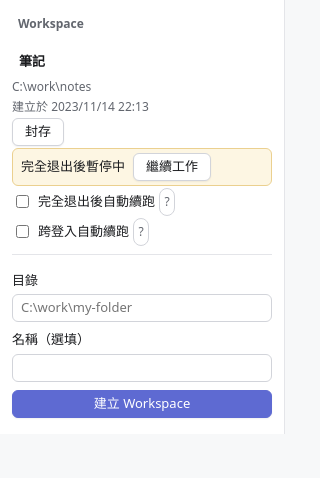
Test: 左側 Workspace 清單 › 停止意圖仍生效而無法繼續工作時顯示 Runtime 的說明，仍維持暫停中
Click the button with aria-label "繼續工作 筆記".
click(172, 167)  # box [133, 153, 211, 181]
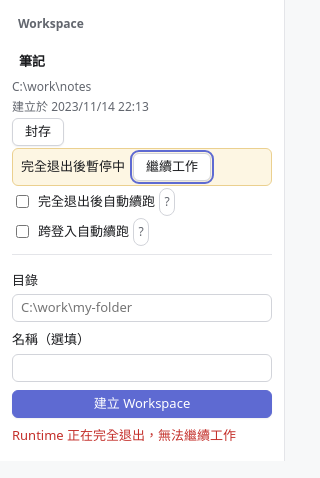
Check: the text "完全退出後暫停中" is shown, box [21, 157, 125, 176]
Check: the message reads "Runtime 正在完全退出，無法繼續工作", box [12, 426, 236, 444]
